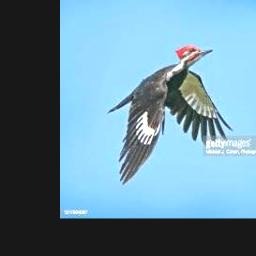Woodpecker: (107, 45, 233, 185)
